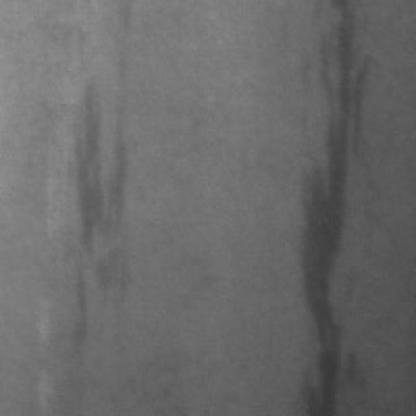inclusion: (285, 0, 370, 412), (58, 52, 140, 308), (39, 254, 93, 360)
